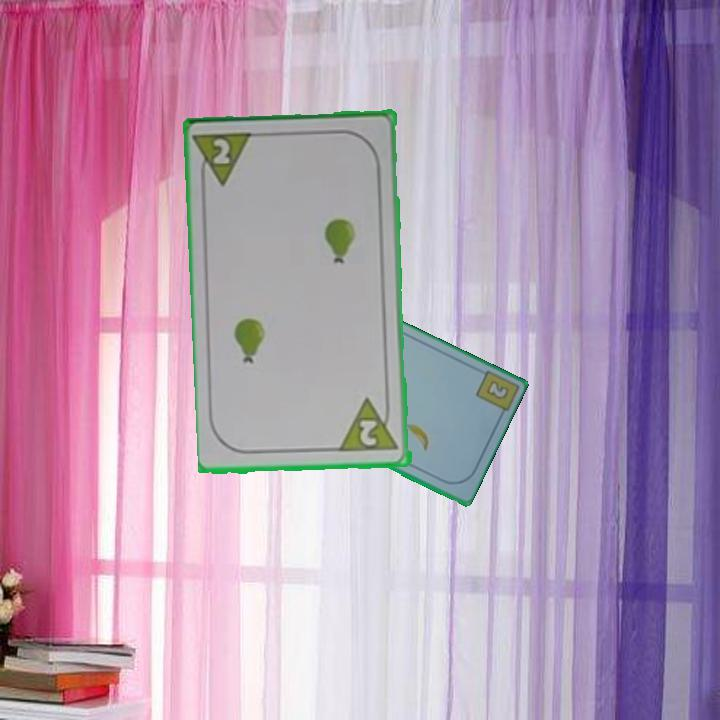2b: (482, 377, 511, 403)
2p: (192, 129, 258, 192), (338, 395, 402, 456)
